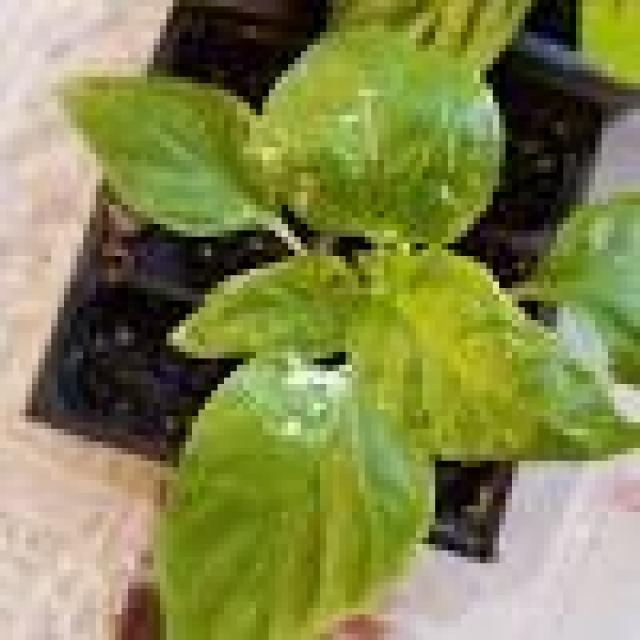bercak_daun: (435, 290, 616, 468)
